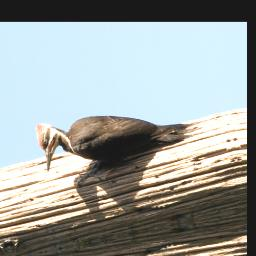Woodpecker: (34, 91, 204, 193)
